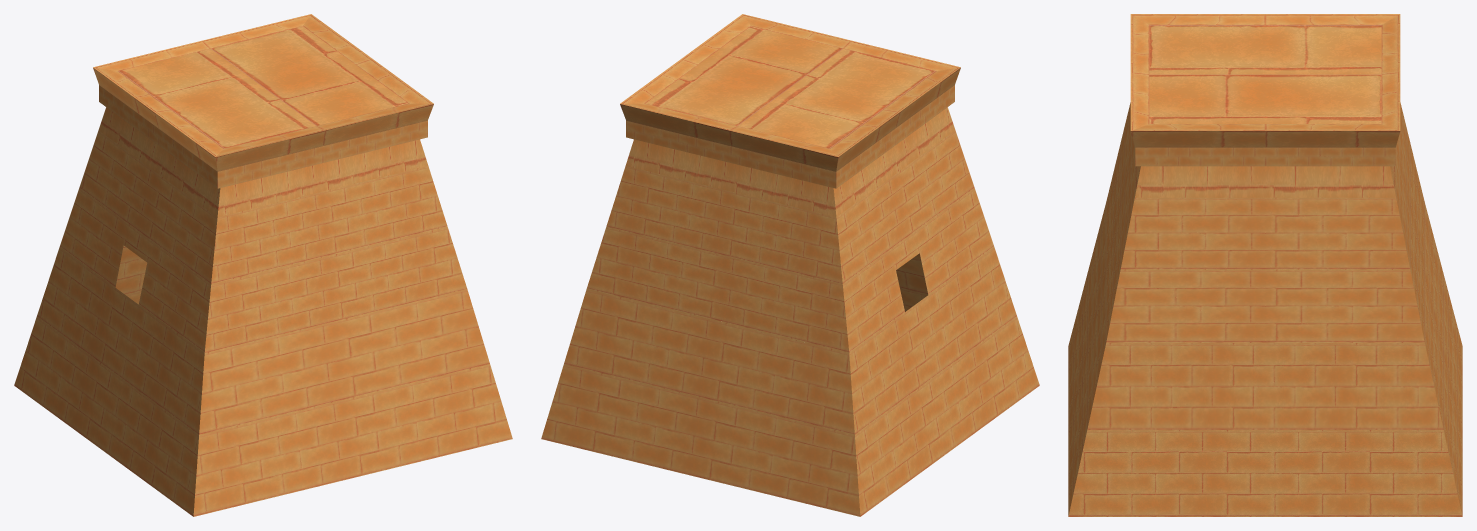
The model's file is TempleFloor04_Art.glb.
The picture shows the model from 3 angles, left to right: view 1: azimuth 30°, elevation 25°; view 2: azimuth 150°, elevation 25°; view 3: azimuth 270°, elevation 25°; orthographic projection. The views are drawn at different scales.
Parts seen in each view (by area): view 1: TempleFloor04_Art; view 2: TempleFloor04_Art; view 3: TempleFloor04_Art.
Boxes of the visible parts, x1,y1,x2,y2 form: TempleFloor04_Art: (14, 14, 512, 516); TempleFloor04_Art: (541, 14, 1039, 516); TempleFloor04_Art: (1068, 14, 1462, 516).
Bounding box in the file's own units: 37.03 × 36.21 × 36.04.
2 materials, 2 textured.
